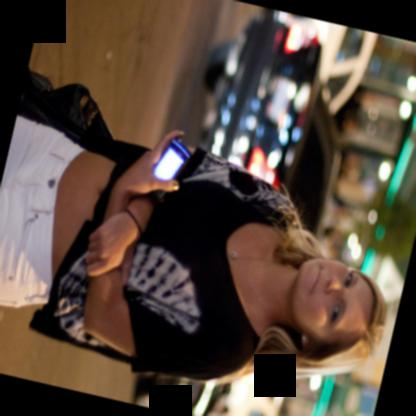handbag: (16, 65, 116, 156)
